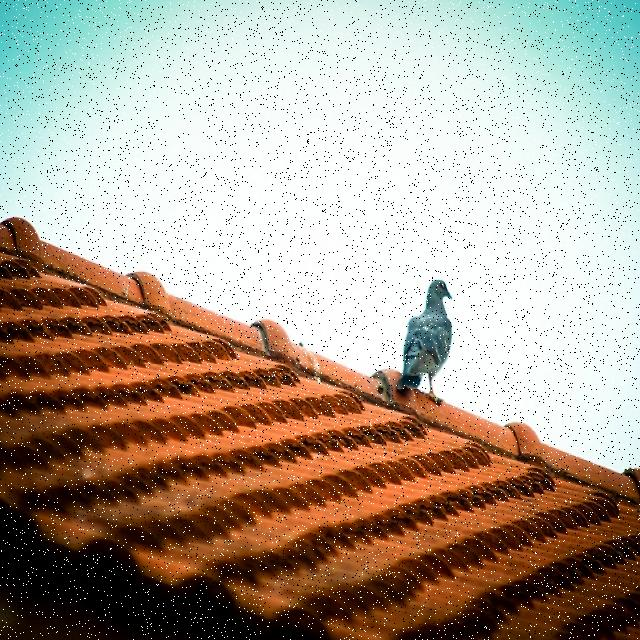bird: (394, 279, 454, 405), (371, 369, 395, 404)
